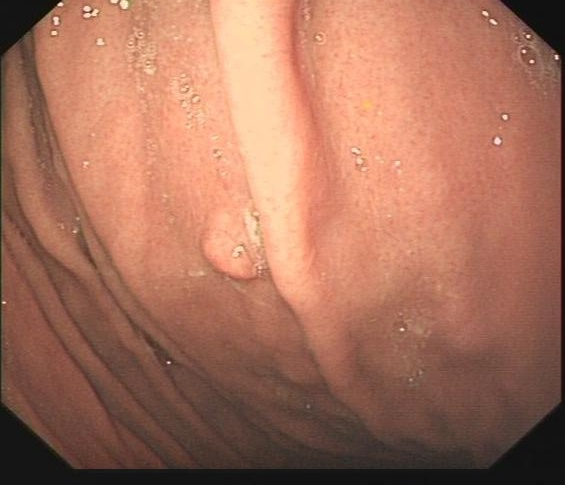Polyp: (194, 225, 263, 286)
